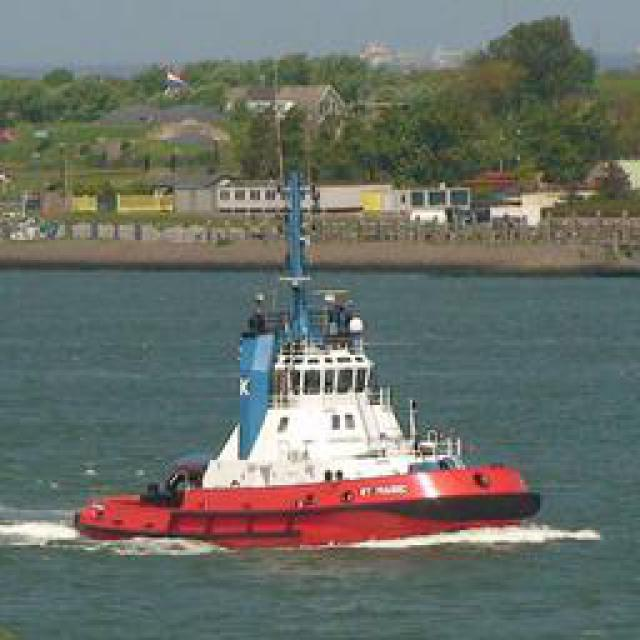Ship: (86, 240, 546, 550)
